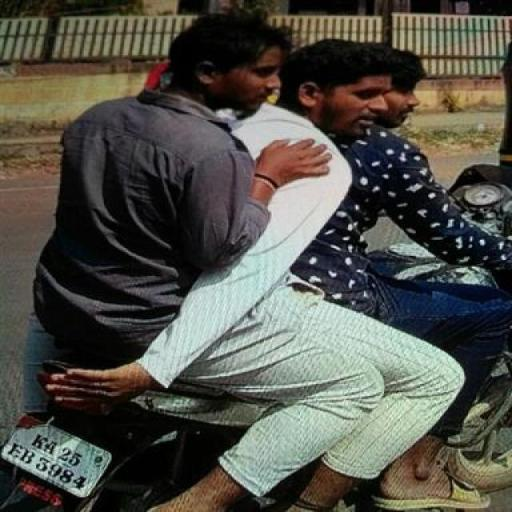tripple riding: (26, 10, 512, 376)
